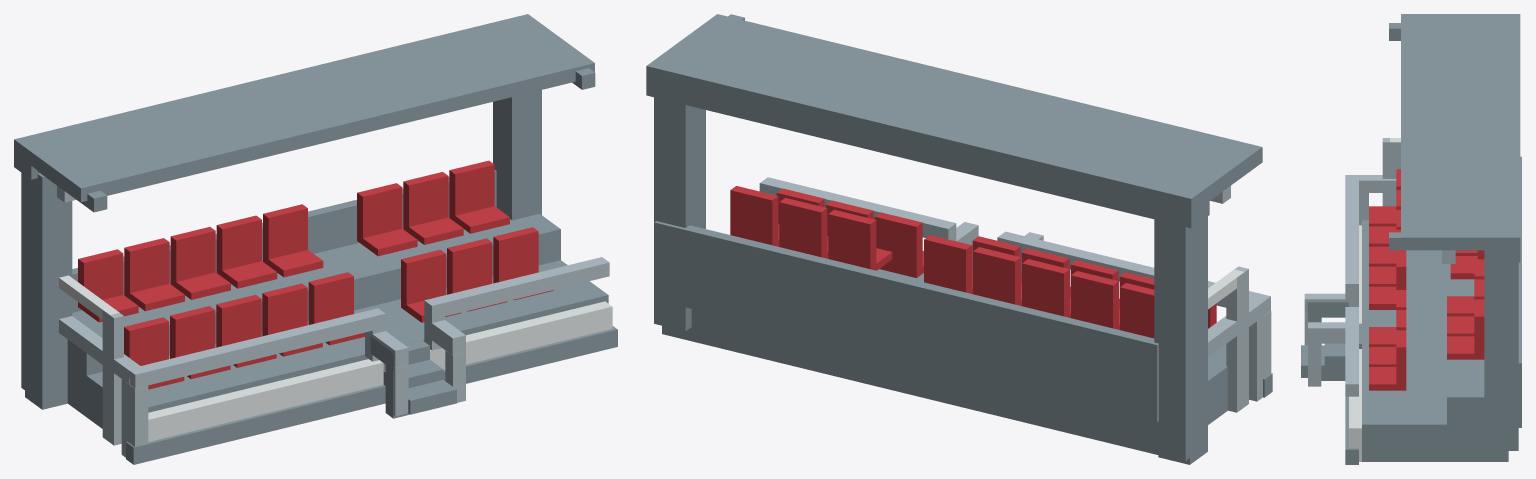
File: SportsStands-Ep3.fbx
3 views of the same model, side by side, from view 1: azimuth 30°, elevation 25°; view 2: azimuth 150°, elevation 25°; view 3: azimuth 270°, elevation 25° (orthographic). The views are drawn at different scales.
Visible parts, largest first — view 1: SportsStands; view 2: SportsStands; view 3: SportsStands.
Boxes of the visible parts, x1,y1,x2,y2 form: SportsStands: [14, 14, 617, 464]; SportsStands: [646, 14, 1272, 464]; SportsStands: [1301, 14, 1521, 464].
Bounding box in the file's own units: 8729 × 4203 × 3645.
